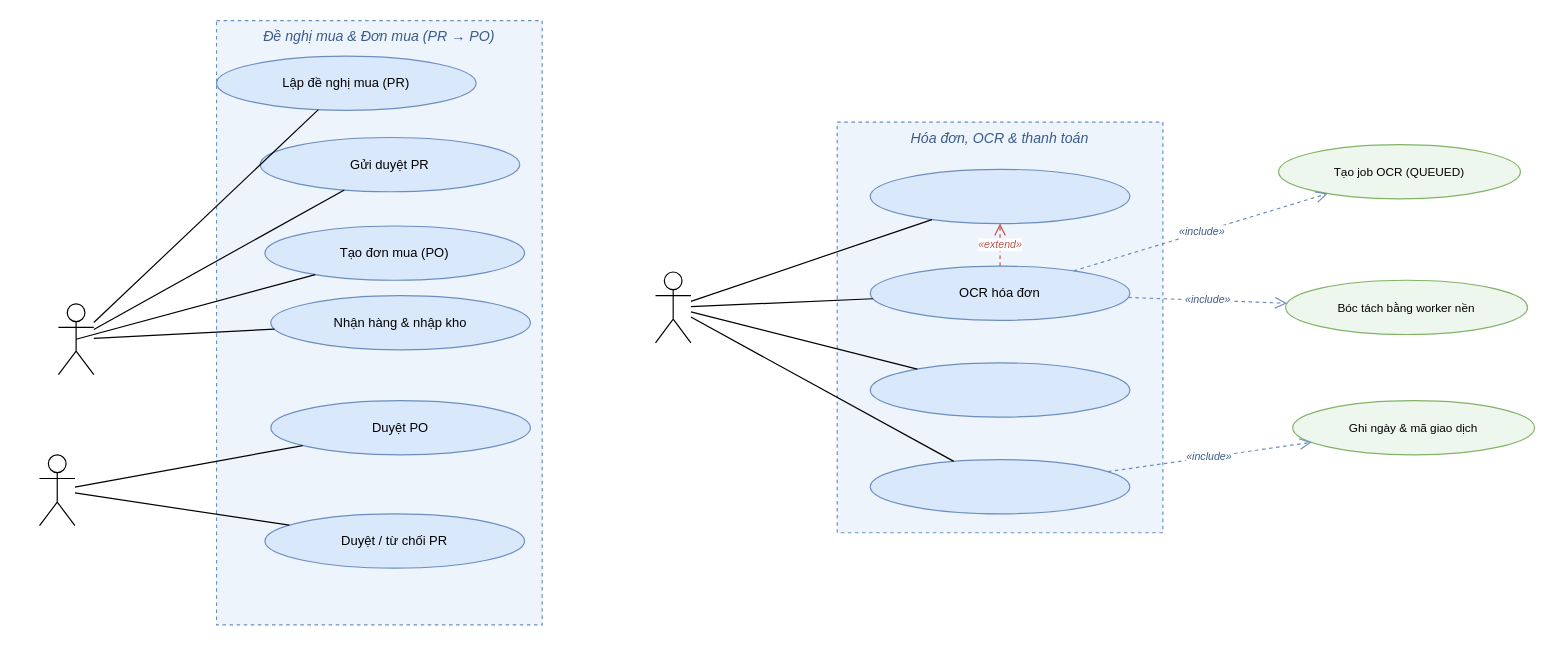
This 1555x645 diagram has some shape labels left out. The centre of each missing label's shape, as x and y in pixels:
Ban quản lý: [56,490]
Kế toán: [672,307]
Kỹ sư trưởng: [75,339]
Nhập hóa đơn: [999,196]
Đánh dấu thanh toán: [999,486]
Đối chiếu hóa đơn ↔ PO: [999,389]
